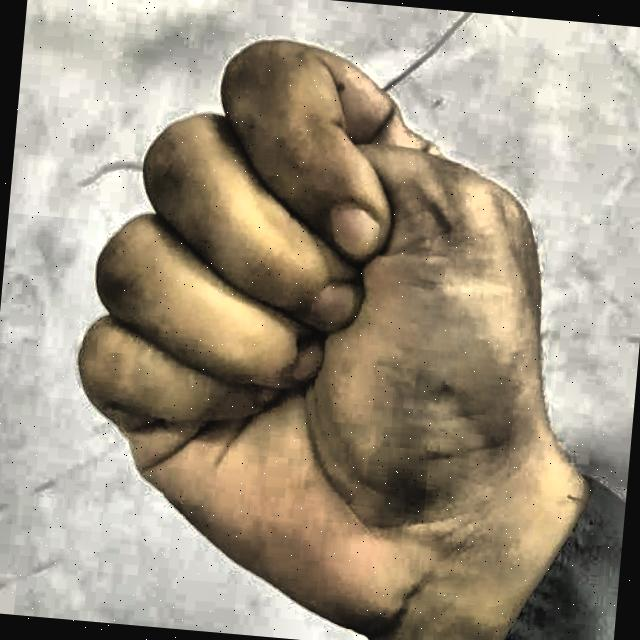To: (48, 9, 602, 640)
